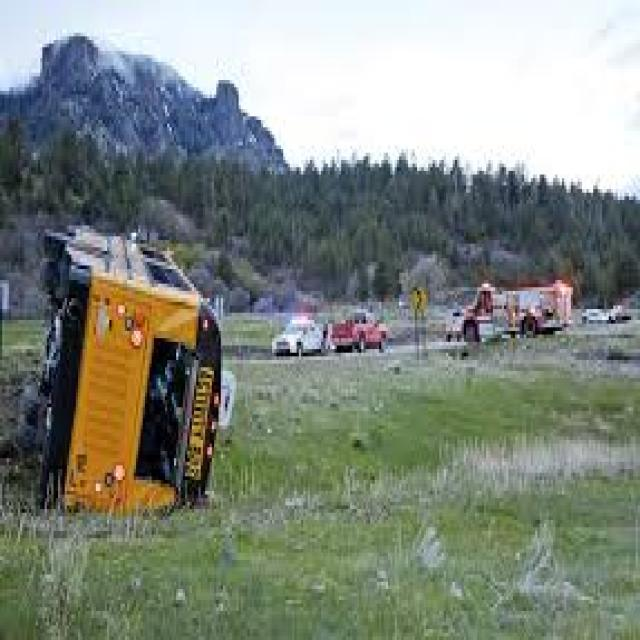turned over vechile: (6, 180, 280, 537)
